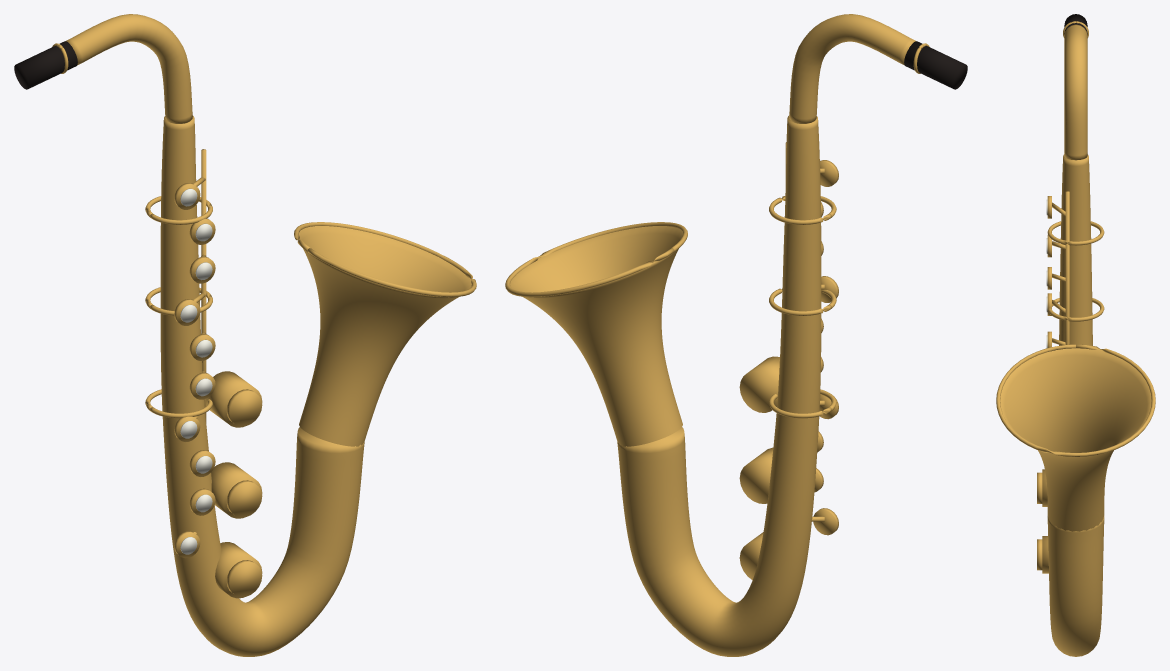
The model's file is saxophone.glb.
3 renders of one model, left to right at view 1: azimuth 30°, elevation 25°; view 2: azimuth 150°, elevation 25°; view 3: azimuth 270°, elevation 25°, orthographic. The views are drawn at different scales.
Parts seen in each view (by area): view 1: saxophone — Laiton poli, saxophone — Nacre, saxophone — Ebene; view 2: saxophone — Laiton poli, saxophone — Ebene; view 3: saxophone — Laiton poli.
Boxes of the visible parts, <box> form: saxophone — Laiton poli: <box>52,14,476,656</box>; saxophone — Nacre: <box>180,188,212,554</box>; saxophone — Ebene: <box>14,41,77,89</box>; saxophone — Laiton poli: <box>505,14,929,656</box>; saxophone — Ebene: <box>904,41,967,89</box>; saxophone — Laiton poli: <box>996,21,1155,656</box>.
Bounding box in the file's own units: 0.4088 × 0.5888 × 0.152.
